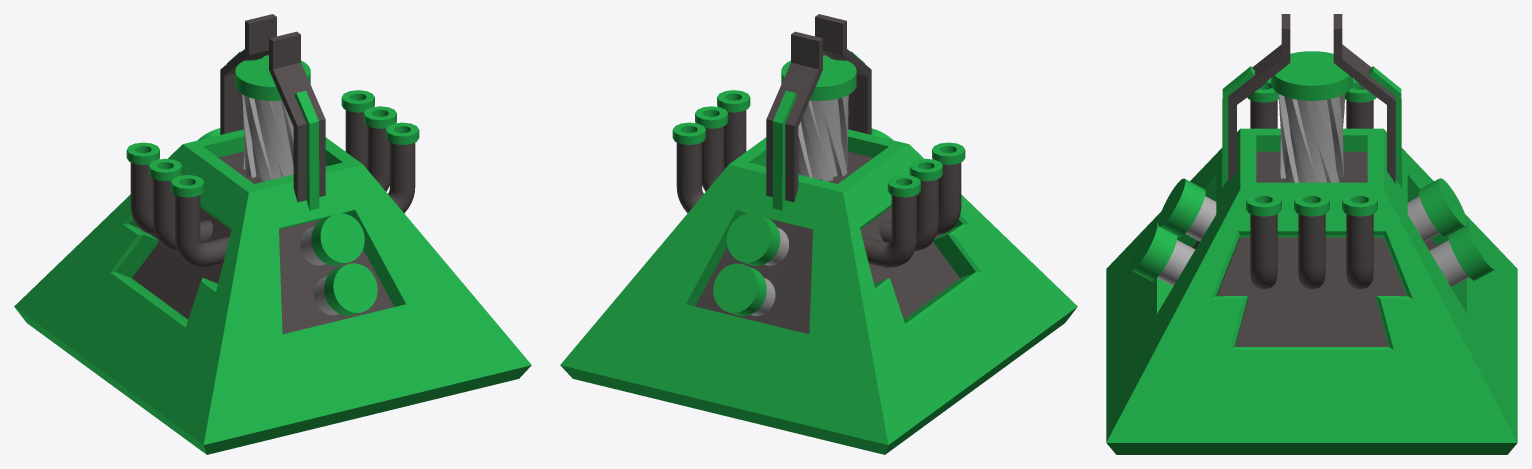
Rendered from MonolithDrill_main.fbx.
3 views of the same model, side by side, from view 1: azimuth 30°, elevation 25°; view 2: azimuth 150°, elevation 25°; view 3: azimuth 270°, elevation 25° (orthographic). The views are drawn at different scales.
Visible parts, largest first — view 1: Cone, Cylinder.043, Cylinder.001, Cylinder.013; view 2: Cone, Cylinder.043, Cylinder.014, Cylinder.015; view 3: Cone, Cylinder.043, Cylinder.015, Cylinder.013, Cylinder.014, Cylinder.001.
Part boxes in pixels (x1=…): Cone: x1=14, y1=14, x2=531, y2=454; Cylinder.043: x1=235, y1=55, x2=310, y2=181; Cylinder.001: x1=300, y1=213, x2=364, y2=265; Cylinder.013: x1=313, y1=263, x2=377, y2=315; Cone: x1=560, y1=14, x2=1077, y2=454; Cylinder.043: x1=781, y1=55, x2=856, y2=181; Cylinder.014: x1=727, y1=213, x2=788, y2=265; Cylinder.015: x1=713, y1=263, x2=775, y2=316; Cone: x1=1106, y1=14, x2=1517, y2=454; Cylinder.043: x1=1271, y1=51, x2=1352, y2=182; Cylinder.015: x1=1429, y1=222, x2=1496, y2=287; Cylinder.013: x1=1130, y1=222, x2=1195, y2=285; Cylinder.014: x1=1407, y1=178, x2=1466, y2=241; Cylinder.001: x1=1158, y1=178, x2=1216, y2=241.
Size of the model in its own units: 234 by 220 by 234.
